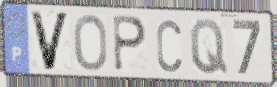7: (230, 18, 264, 78)
C: (155, 17, 184, 74)
O: (72, 13, 109, 73)
P: (111, 14, 148, 74)
Q: (188, 17, 230, 77)
V: (28, 9, 72, 73)
